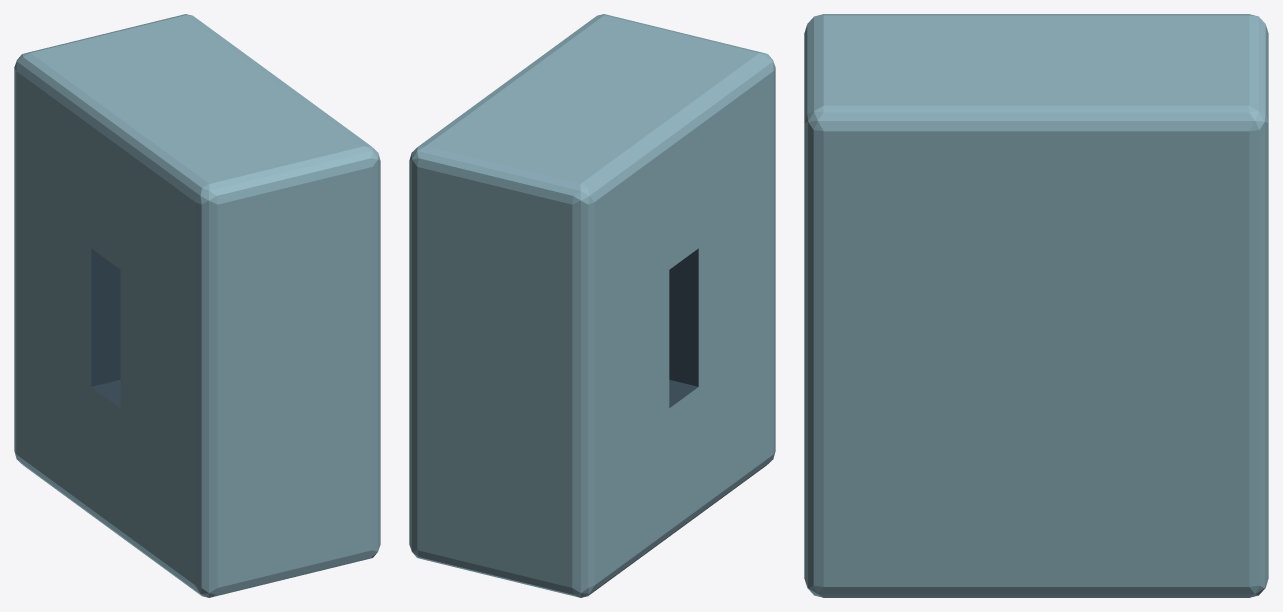
The picture shows the model from 3 angles, left to right: view 1: azimuth 30°, elevation 25°; view 2: azimuth 150°, elevation 25°; view 3: azimuth 270°, elevation 25°; orthographic projection. The views are drawn at different scales.
Parts seen in each view (by area): view 1: geometry_0; view 2: geometry_0; view 3: geometry_0.
Part boxes in pixels (x1=…): geometry_0: x1=14, y1=14, x2=380, y2=597; geometry_0: x1=409, y1=14, x2=775, y2=597; geometry_0: x1=804, y1=14, x2=1268, y2=597.
Size of the model in its own units: 0.013 by 0.028 by 0.024.
1 material, 1 textured.
